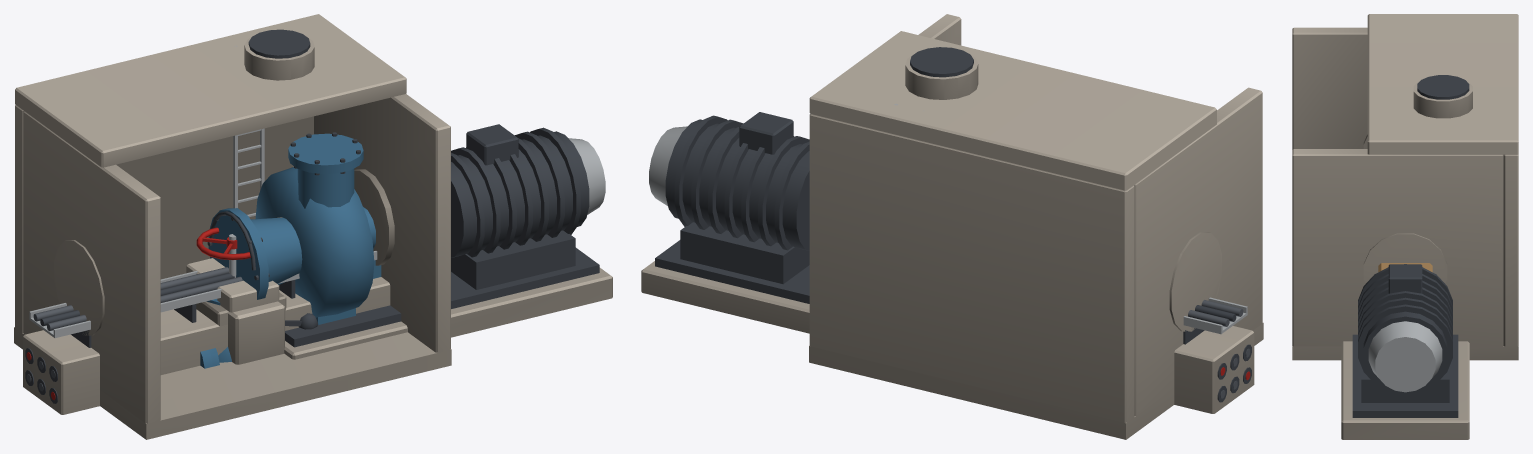
The model's file is underground-kit.glb.
3 renders of one model, left to right at view 1: azimuth 30°, elevation 25°; view 2: azimuth 150°, elevation 25°; view 3: azimuth 270°, elevation 25°, orthographic. The views are drawn at different scales.
Parts seen in each view (by area): view 1: chamber_v0, pump-unit_v0, cable-duct_v0, pipe-saddle_v0, gate-valve_v0, check-valve_v0; view 2: chamber_v0, pump-unit_v0, cable-duct_v0; view 3: chamber_v0, pump-unit_v0.
Part boxes in pixels (bbox=[...]): chamber_v0: bbox=[14, 14, 451, 439]; pump-unit_v0: bbox=[207, 124, 612, 359]; cable-duct_v0: bbox=[23, 251, 390, 414]; pipe-saddle_v0: bbox=[186, 211, 284, 364]; gate-valve_v0: bbox=[196, 227, 250, 366]; check-valve_v0: bbox=[200, 313, 318, 368]; chamber_v0: bbox=[809, 14, 1263, 439]; pump-unit_v0: bbox=[641, 112, 809, 333]; cable-duct_v0: bbox=[1174, 297, 1254, 413]; chamber_v0: bbox=[1292, 14, 1518, 360]; pump-unit_v0: bbox=[1341, 263, 1469, 439].
Size of the model in its own units: 14.33 by 8.19 by 6.
